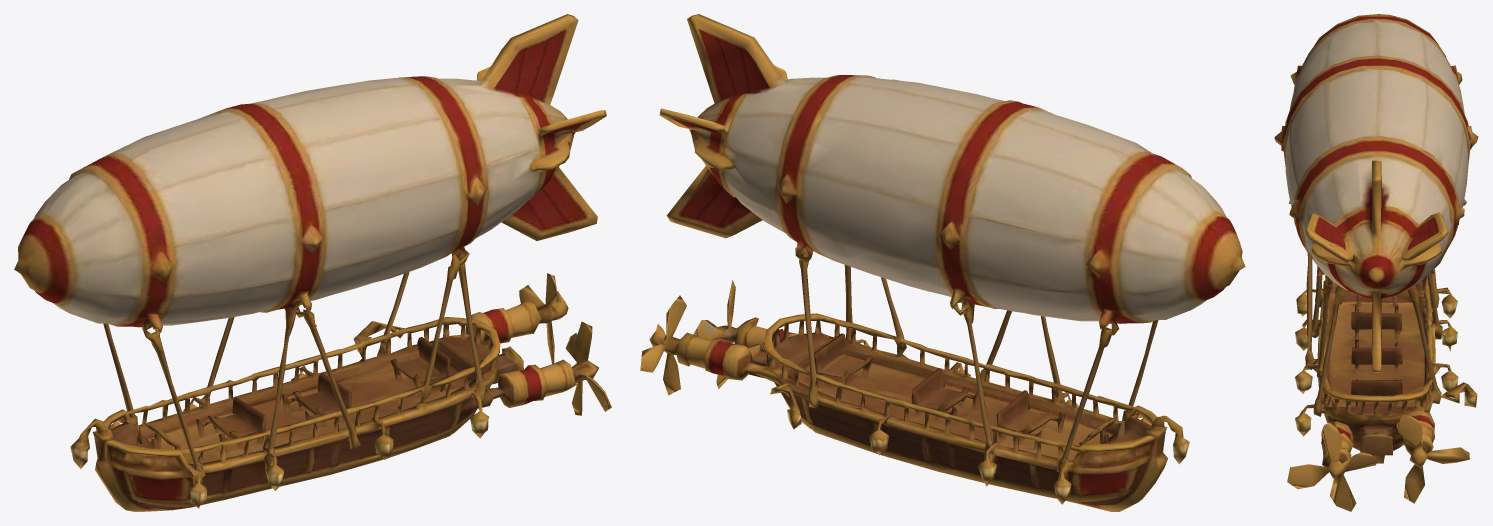
File: airship.glb
3 renders of one model, left to right at view 1: azimuth 30°, elevation 25°; view 2: azimuth 150°, elevation 25°; view 3: azimuth 270°, elevation 25°, orthographic. The views are drawn at different scales.
Parts seen in each view (by area): view 1: airship; view 2: airship; view 3: airship.
Boxes of the visible parts, x1,y1,x2,y2 form: airship: (14, 14, 611, 511); airship: (640, 14, 1245, 511); airship: (1274, 14, 1478, 511).
Size of the model in its own units: 23.11 by 15 by 7.99.
1 material, 1 textured.
